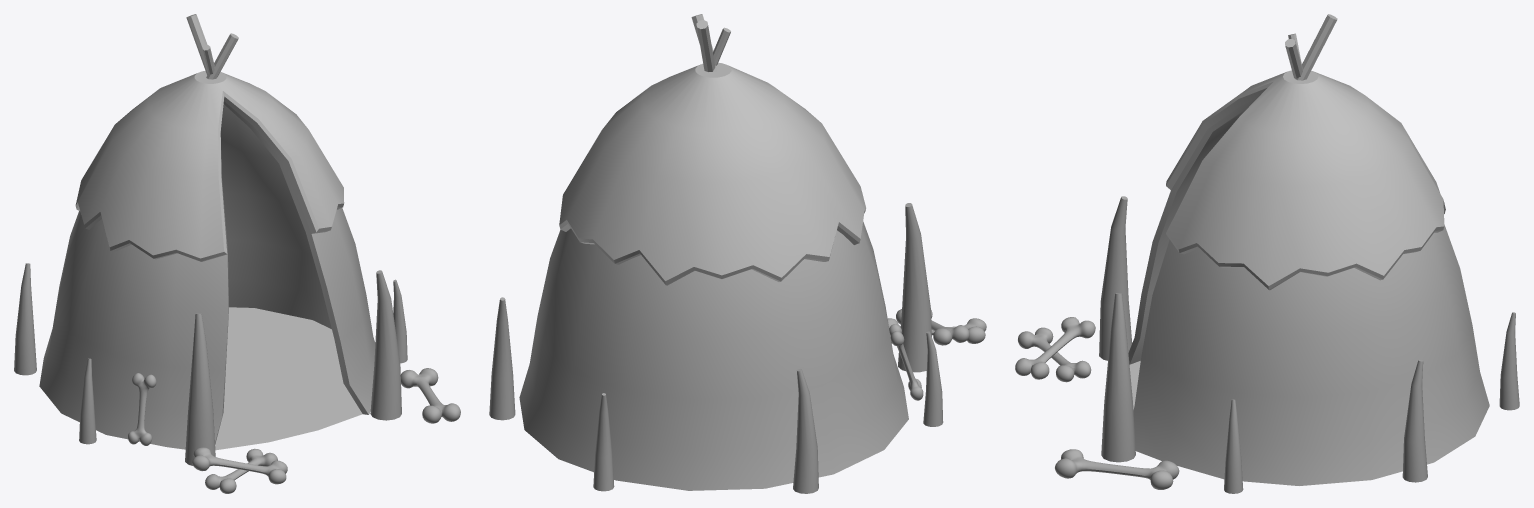
Rendered from Giant.fbx.
3 renders of one model, left to right at view 1: azimuth 30°, elevation 25°; view 2: azimuth 150°, elevation 25°; view 3: azimuth 270°, elevation 25°, orthographic. The views are drawn at different scales.
Visible parts, largest first — view 1: Lvl1_GolemBarrack; view 2: Lvl1_GolemBarrack; view 3: Lvl1_GolemBarrack.
Part boxes in pixels (x1,y1,x2,y2): Lvl1_GolemBarrack: (14,14,460,493); Lvl1_GolemBarrack: (489,14,986,493); Lvl1_GolemBarrack: (1015,14,1519,493).
Size of the model in its own units: 3.38 by 3.45 by 4.05.
